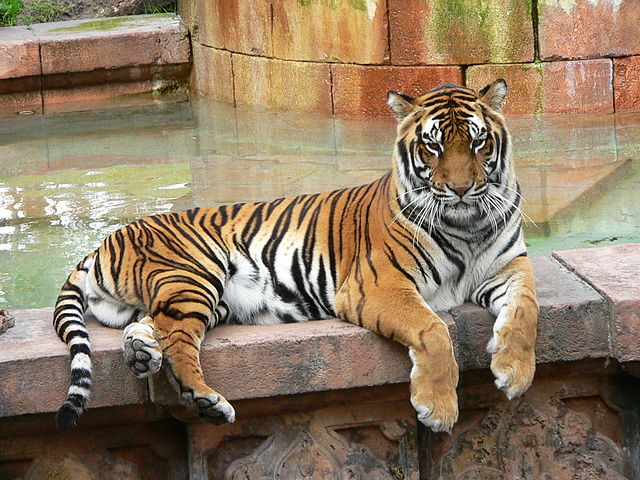Tiger: (49, 52, 548, 445)
